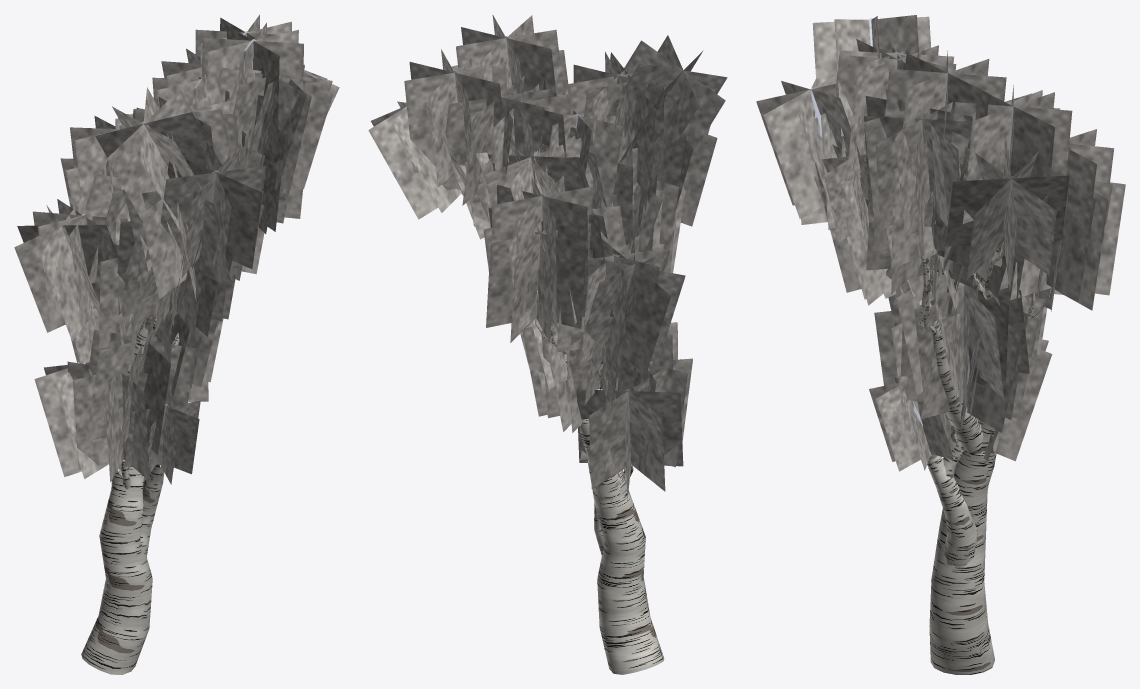
The model's file is SM_Snow_Birch_A.glb.
The picture shows the model from 3 angles, left to right: view 1: azimuth 30°, elevation 25°; view 2: azimuth 150°, elevation 25°; view 3: azimuth 270°, elevation 25°; orthographic projection. The views are drawn at different scales.
Parts seen in each view (by area): view 1: SM_Snow_Birch_A; view 2: SM_Snow_Birch_A; view 3: SM_Snow_Birch_A.
Boxes of the visible parts, bbox=[...] form: SM_Snow_Birch_A: bbox=[14, 14, 339, 674]; SM_Snow_Birch_A: bbox=[368, 15, 727, 674]; SM_Snow_Birch_A: bbox=[756, 15, 1125, 674].
Bounding box in the file's own units: 2.1 × 3.9 × 1.95.
Materials: 3 (3 with a texture image).
